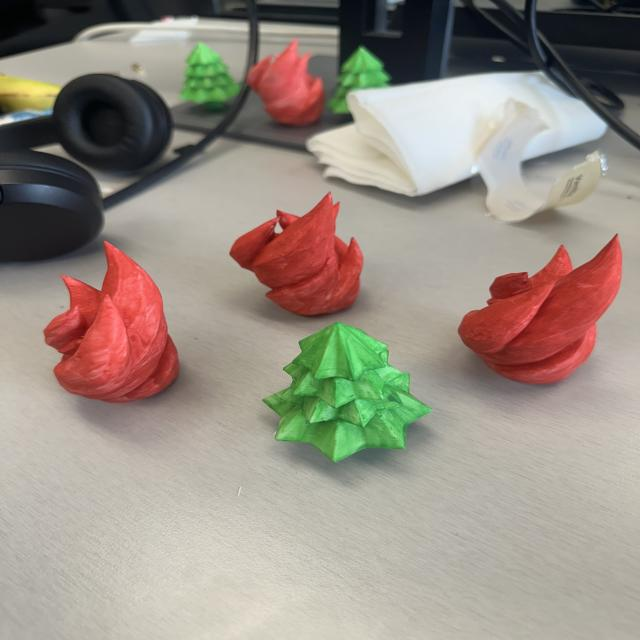fire: (455, 232, 625, 385), (41, 238, 182, 404), (231, 191, 364, 319)
tree: (263, 322, 437, 466)
